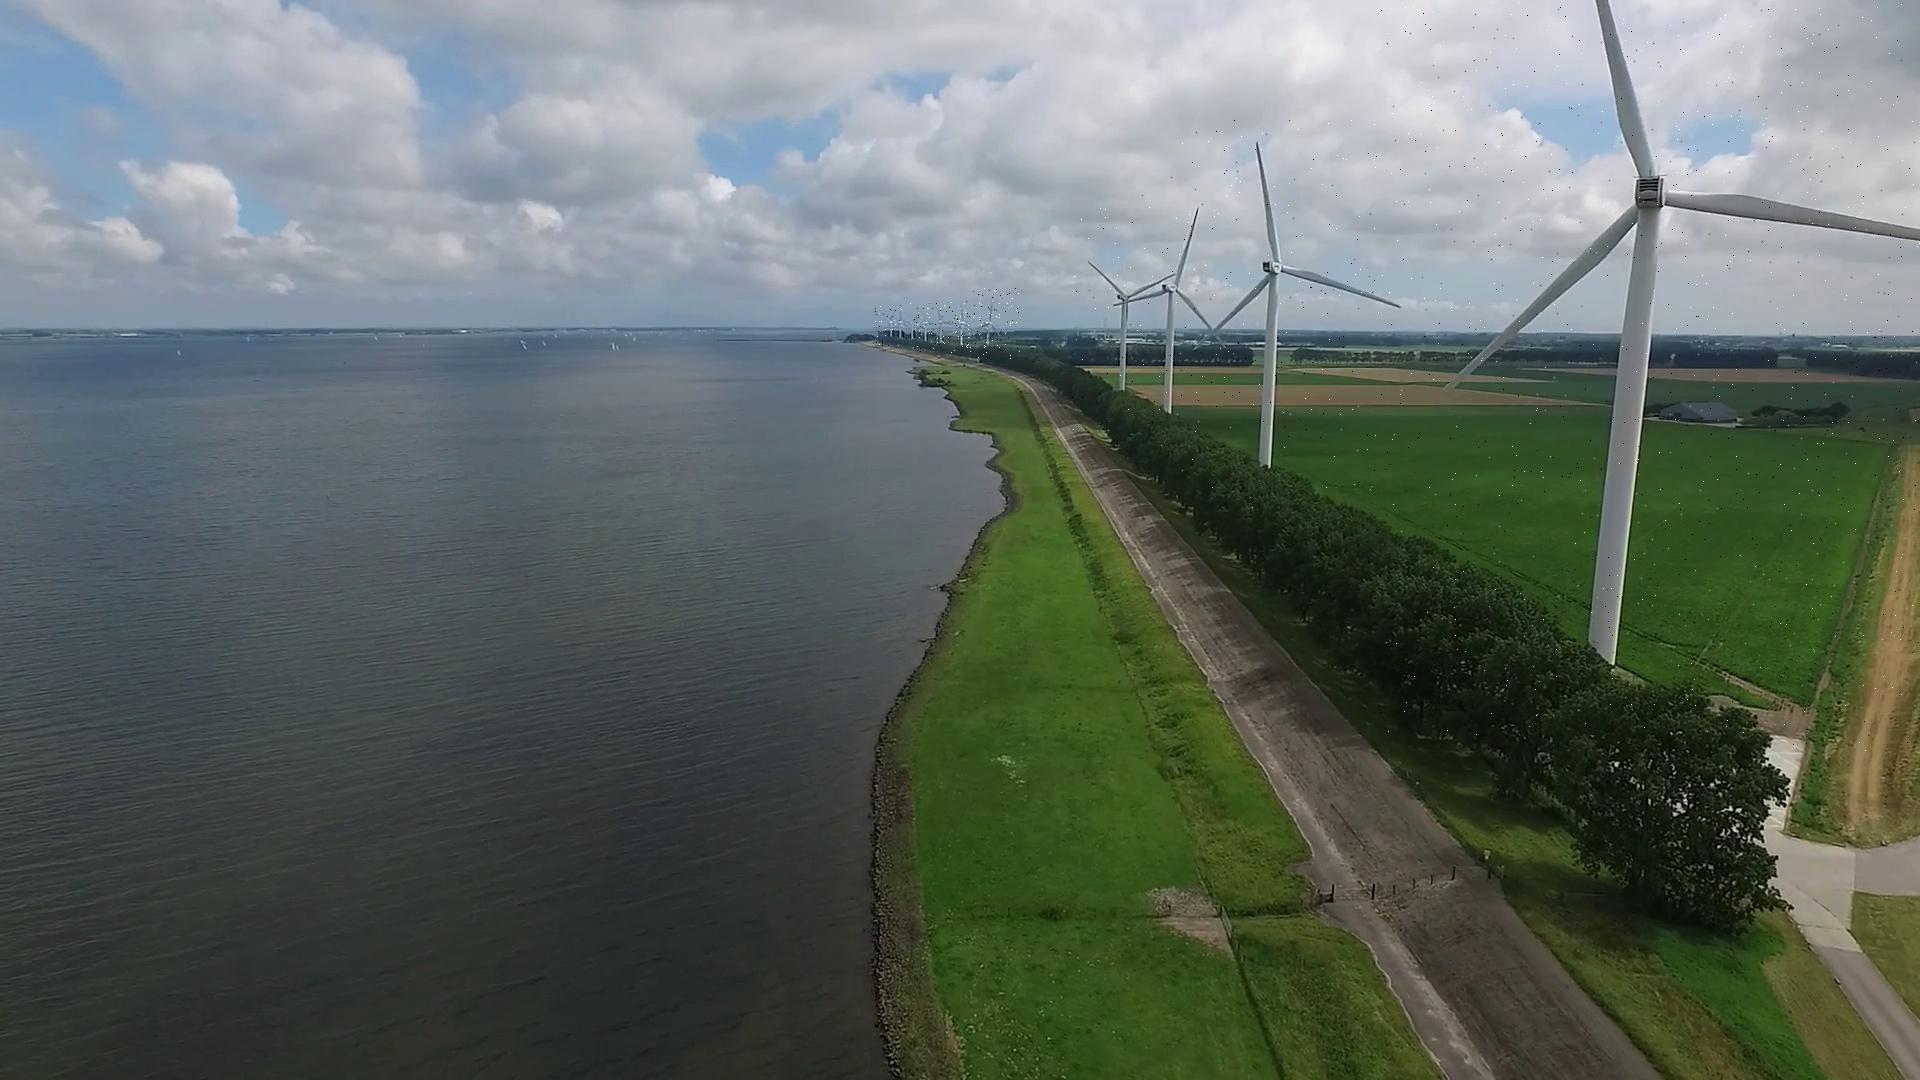turbine: (1381, 0, 1920, 752), (1164, 120, 1416, 514), (1124, 191, 1259, 456), (1065, 194, 1162, 438), (973, 287, 1019, 359), (910, 303, 938, 352), (949, 301, 973, 353), (928, 303, 953, 352), (876, 306, 903, 347), (893, 307, 911, 347), (902, 310, 920, 347)
